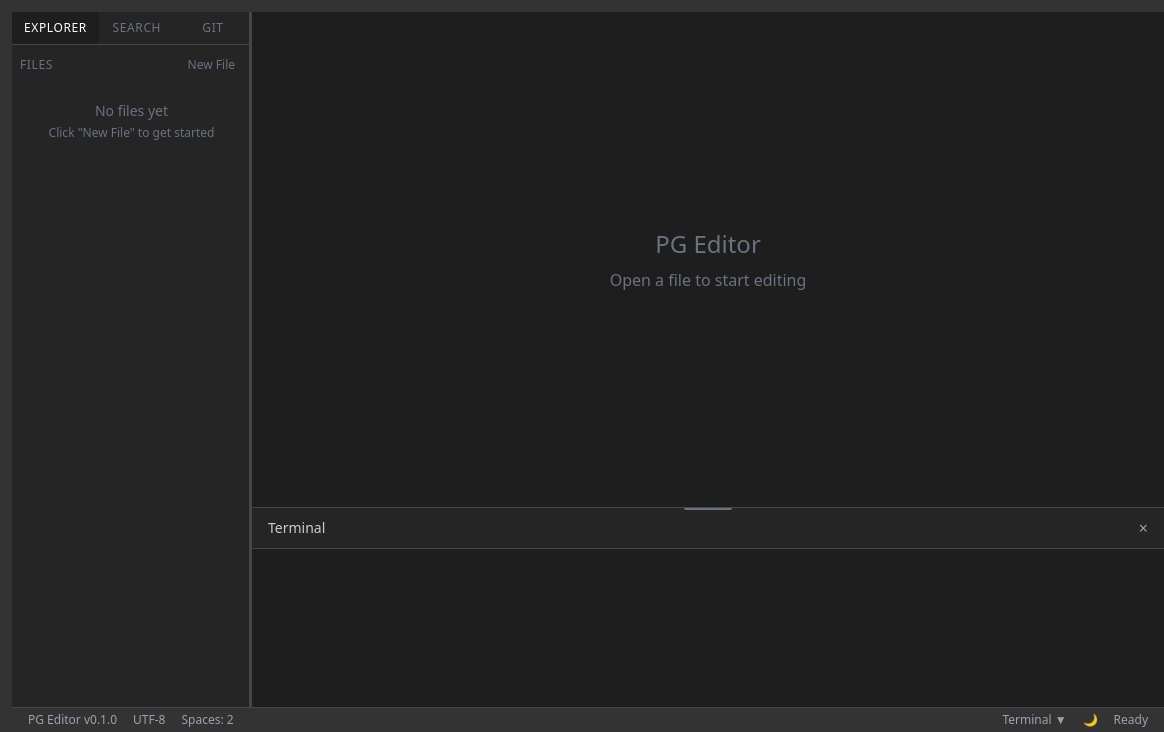
it: App Integration Tests › should show terminal when toggle is clicked
The width and height of the screenshot is (1164, 732).
Expected: the text "Terminal" is shown, [268, 518, 325, 538]
# Find and click terminal toggle
What coordinates should you click on to do the following:
click the button titled "Toggle Terminal"
I would click on:
 (1034, 720)
Its box is [1002, 712, 1066, 728].
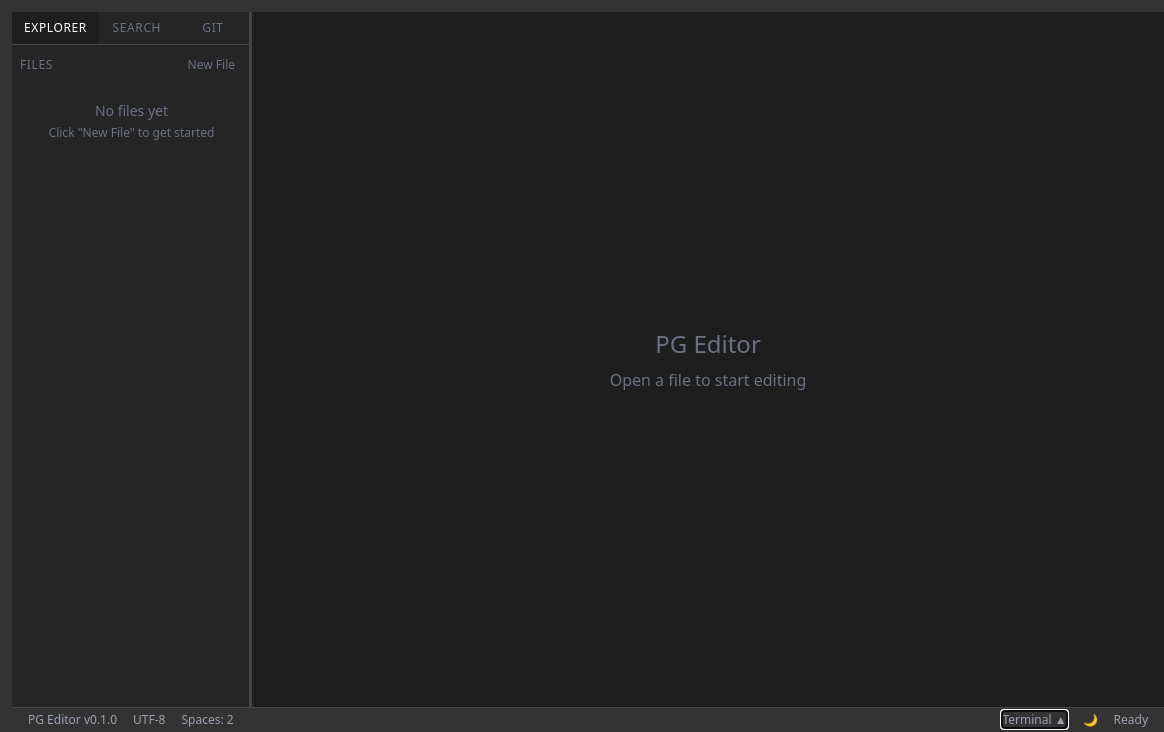
# Click again to show
What coordinates should you click on to do the following:
click the button titled "Toggle Terminal"
I would click on:
 (1034, 720)
Its box is [1002, 712, 1066, 728].
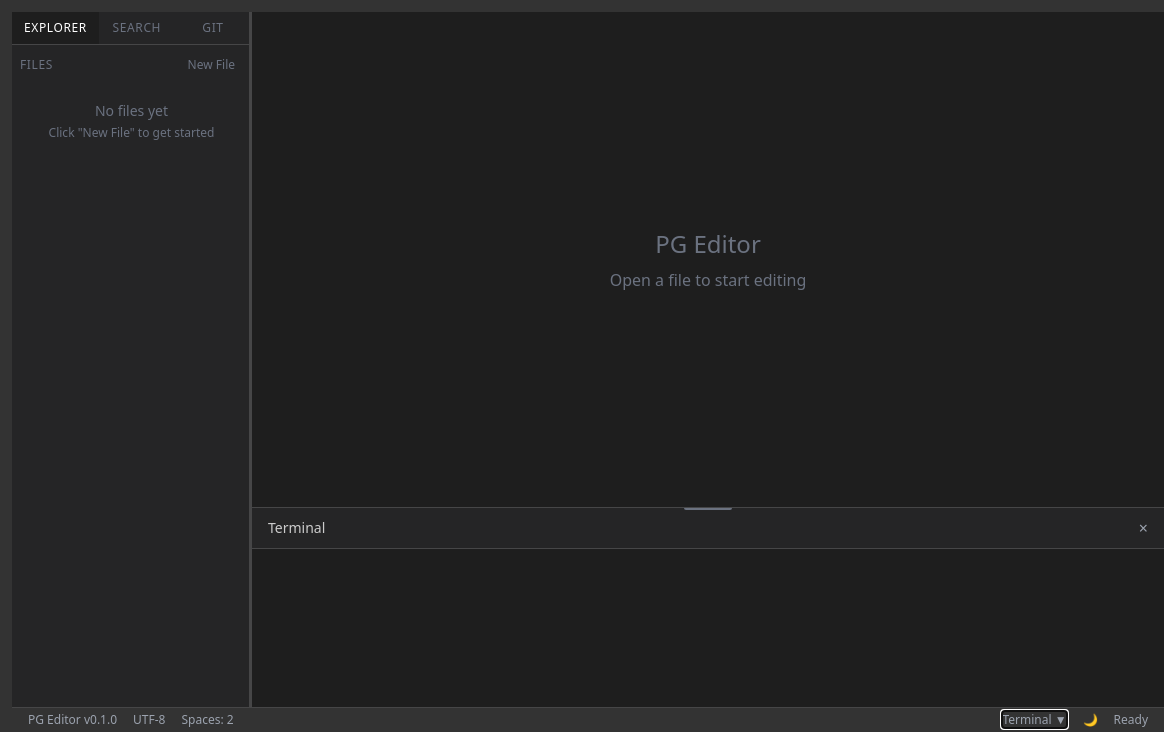
Result: the text "Terminal" is shown at [268, 518, 325, 538]
